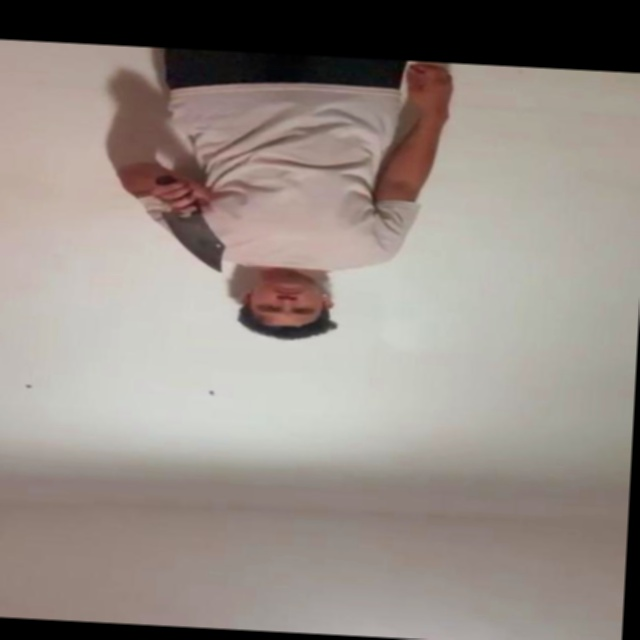Sharp-Object: (165, 215, 229, 270)
